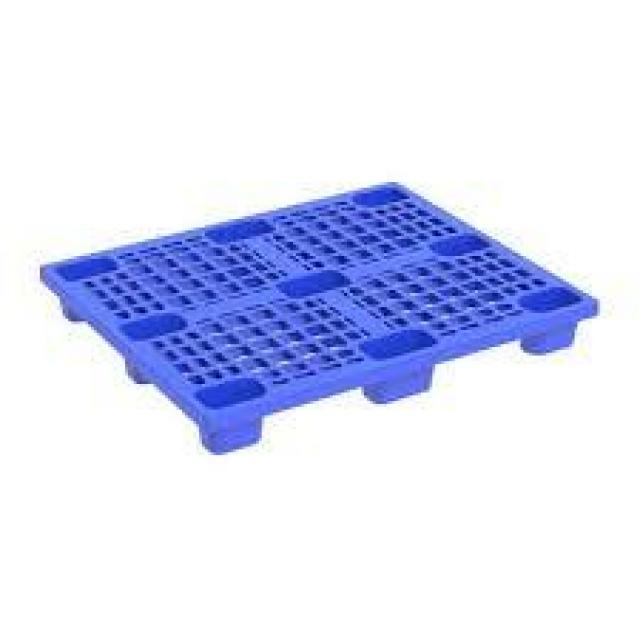block: (207, 404, 266, 456), (374, 357, 436, 406), (529, 315, 593, 360)
front: (199, 299, 607, 462)
